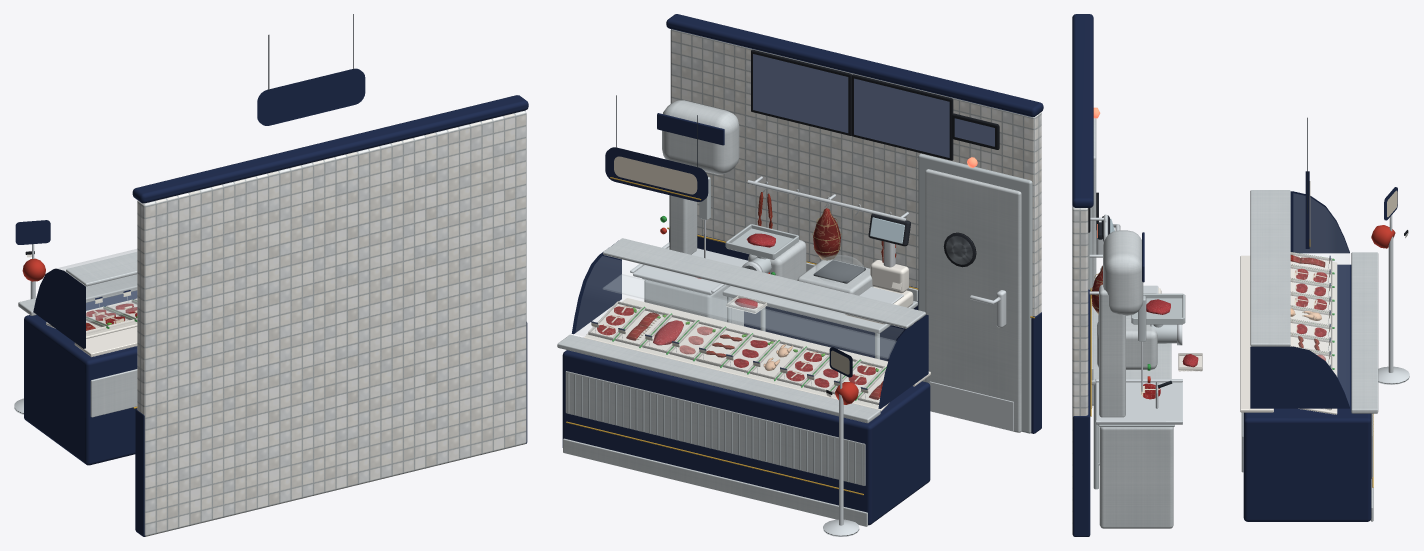
File: sector-acougue_T2.fbx
The picture shows the model from 3 angles, left to right: view 1: azimuth 30°, elevation 25°; view 2: azimuth 150°, elevation 25°; view 3: azimuth 270°, elevation 25°; orthographic projection. The views are drawn at different scales.
Parts seen in each view (by area): view 1: Body; view 2: Body; view 3: Body.
Boxes of the visible parts, x1=… form: Body: x1=14, y1=14, x2=528, y2=536; Body: x1=557, y1=14, x2=1043, y2=536; Body: x1=1072, y1=14, x2=1409, y2=536.
Size of the model in its own units: 3.29 by 2.89 by 2.51.
